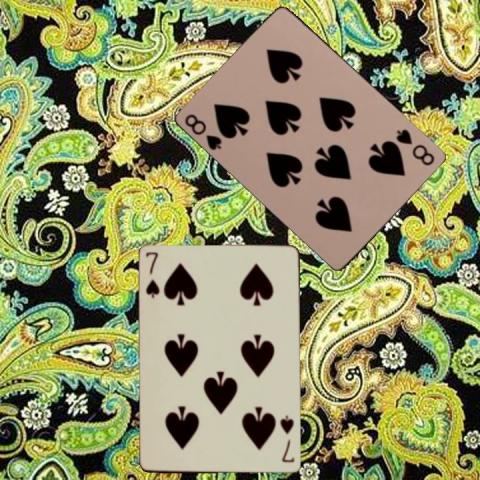7s: (277, 412, 296, 464), (143, 249, 161, 300)
8s: (393, 126, 437, 167), (182, 111, 224, 152)
